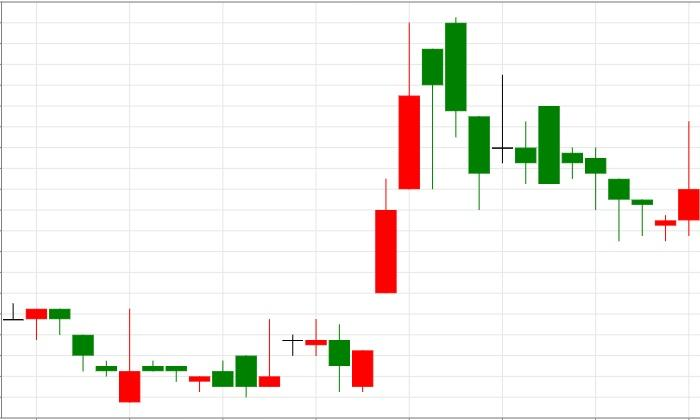hanging_man_fall: (352, 22, 443, 392)
